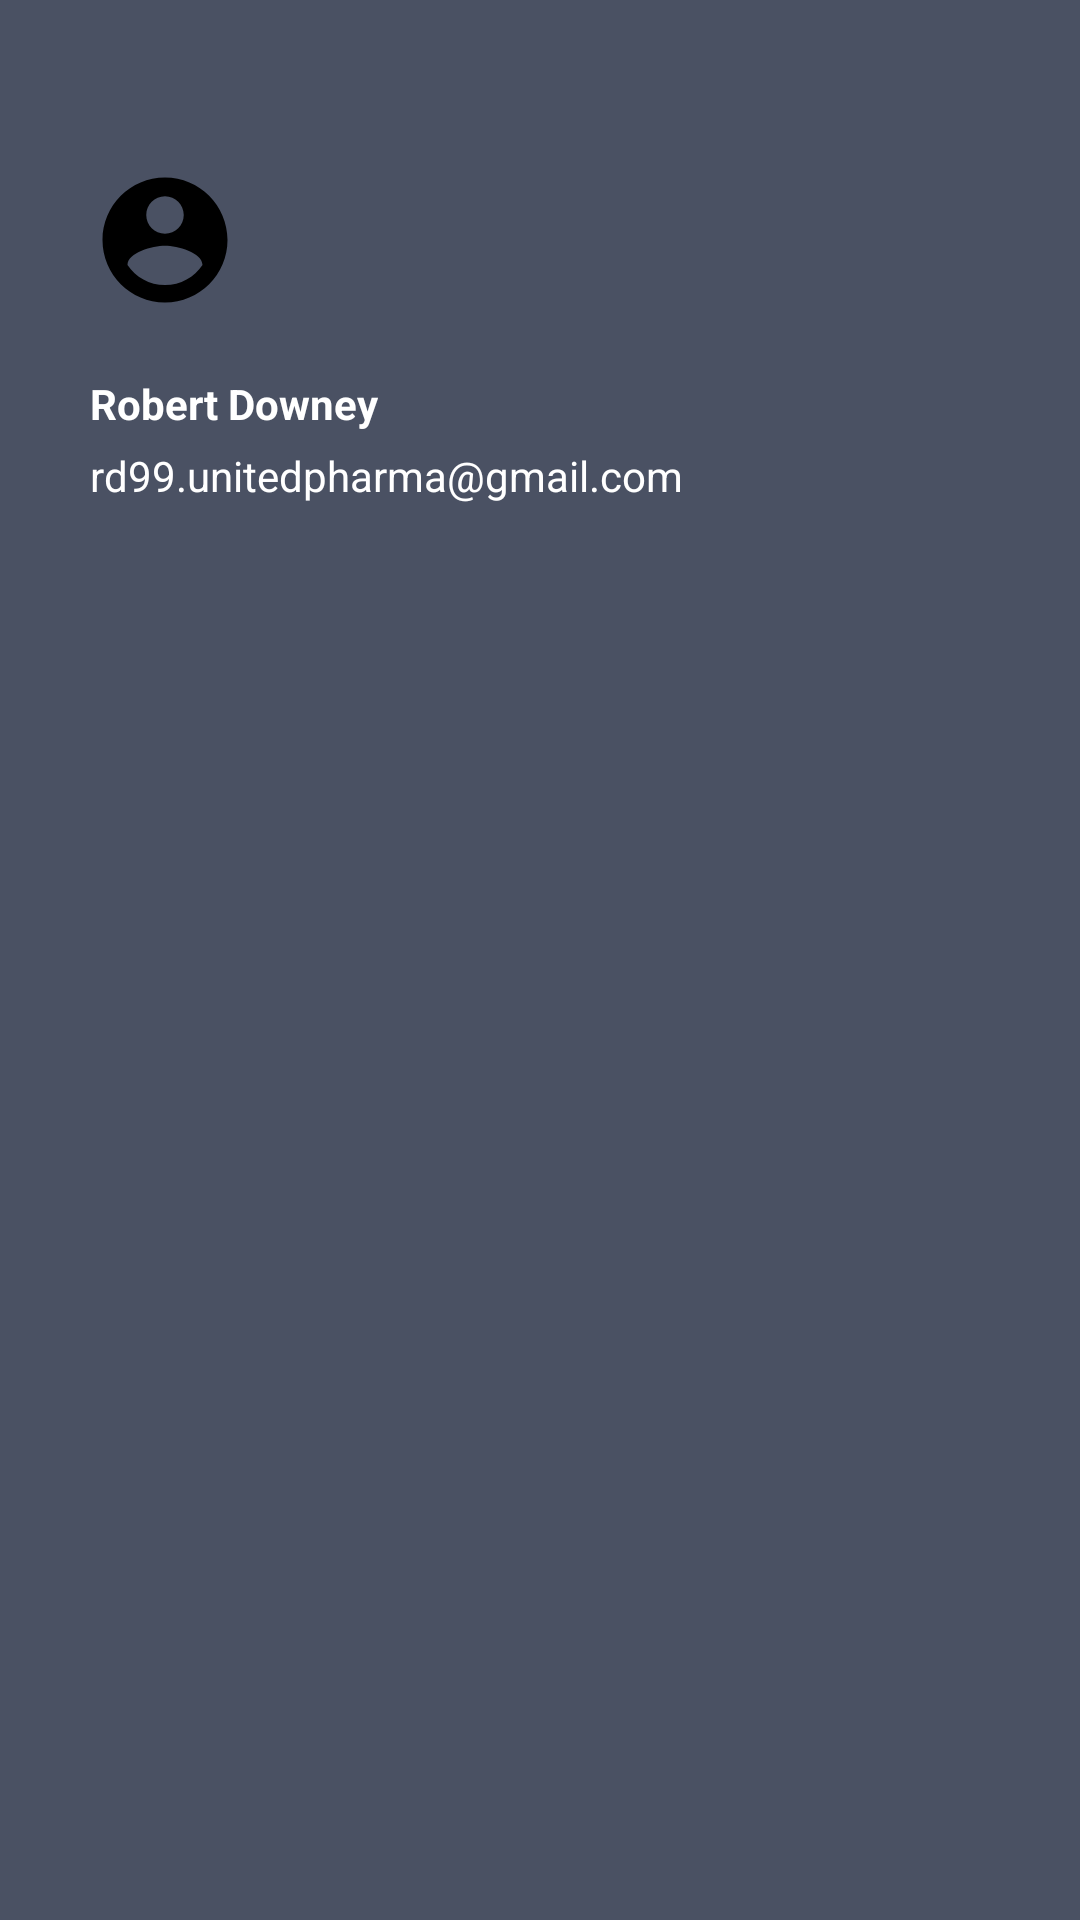

Where icons sit on this 1080w x 1920h app screen, as region(x1, y1, x2, y2):
profile: region(102, 177, 228, 303)
